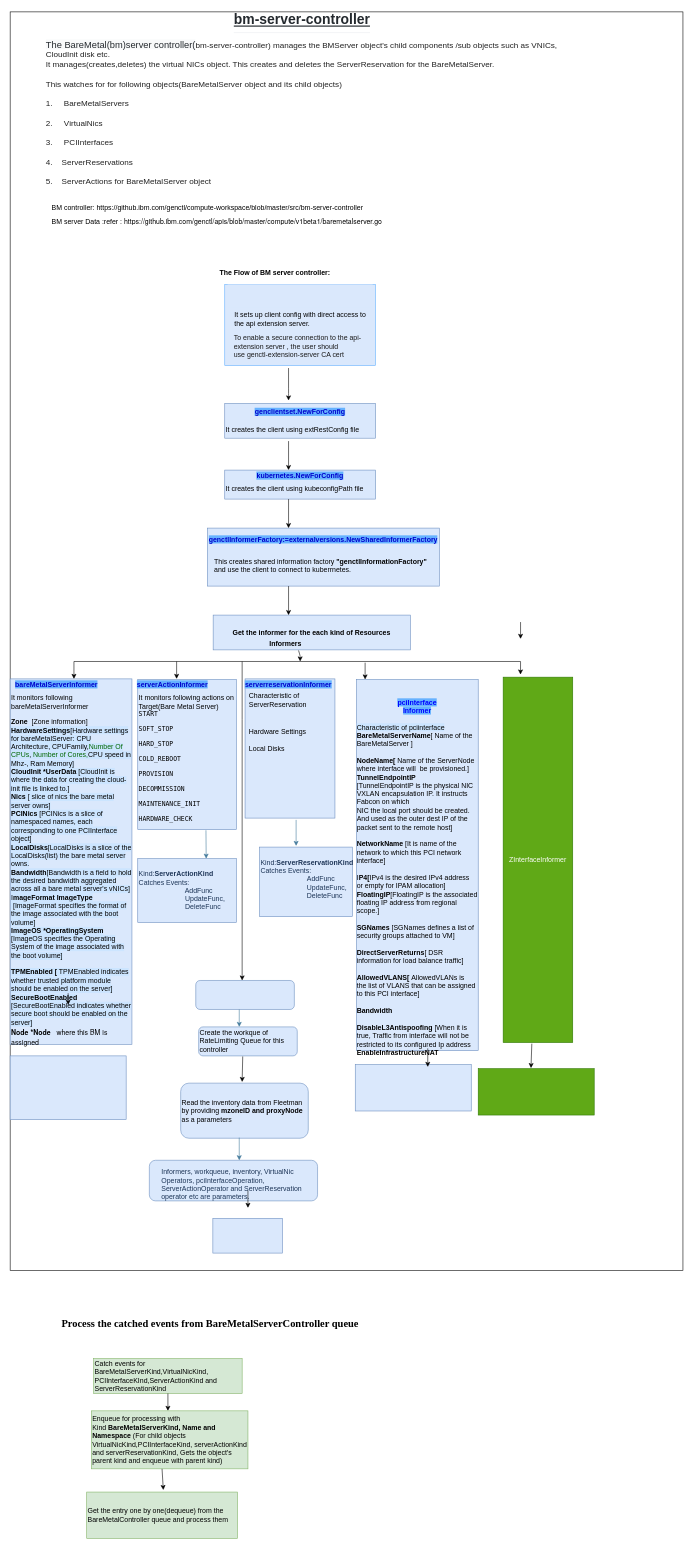
Image size: 693x1549. Some labels were removed from this diagram. Each missing label, with the centre of its shape:
"clientconfig. ConfigExtensionServer" goes at (x=299, y=295).
"Kind: BareMetalServerKind Catches Events: AddFunc, UpdateFunc," goes at (x=68, y=1087).
"Kind: PCIInterfaceKind Catches Events: AddFunc, UpdateFunc, DeleteFunc" goes at (x=413, y=1087).
"Kind: ZinterfaceInterfaceKind Catches Events: AddFunc, UpdateFunc, DeleteFunc" goes at (x=536, y=1091).
"Start the controller(Run)" goes at (x=247, y=1235).
"Start the genctlInformer factory" goes at (x=244, y=994).
